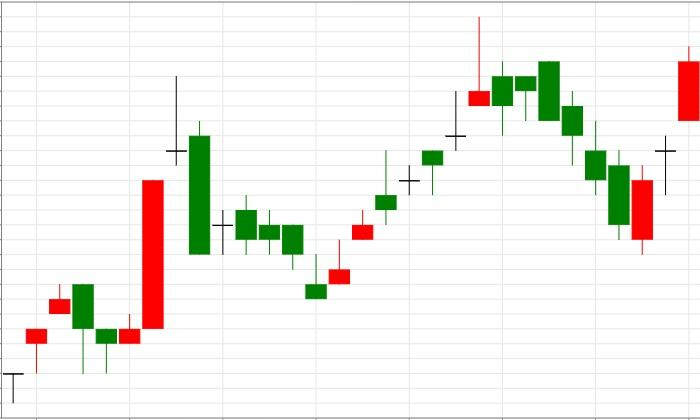inverse_hammer_rise: (166, 75, 327, 300)
